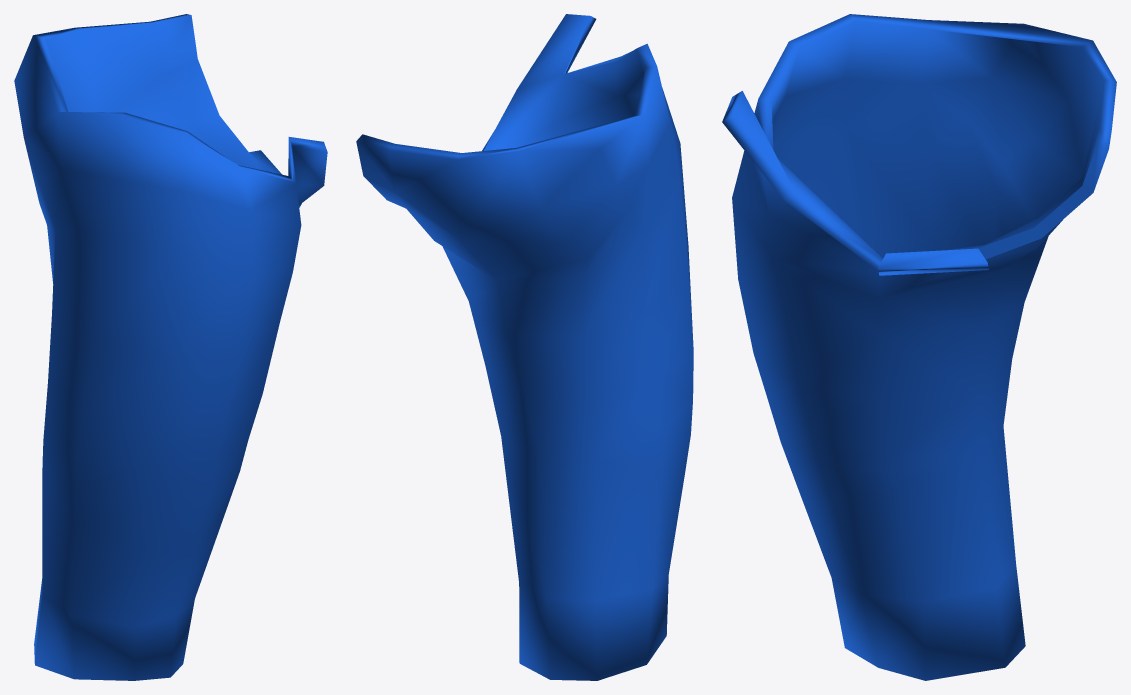
The model's file is нога.fbx.
3 renders of one model, left to right at view 1: azimuth 30°, elevation 25°; view 2: azimuth 150°, elevation 25°; view 3: azimuth 270°, elevation 25°, orthographic. The views are drawn at different scales.
Parts seen in each view (by area): view 1: Police_pants; view 2: Police_pants; view 3: Police_pants.
Boxes of the visible parts, x1,y1,x2,y2 form: Police_pants: [14, 14, 327, 680]; Police_pants: [356, 14, 693, 680]; Police_pants: [722, 14, 1116, 680].
Size of the model in its own units: 23.54 by 52.95 by 30.62.
